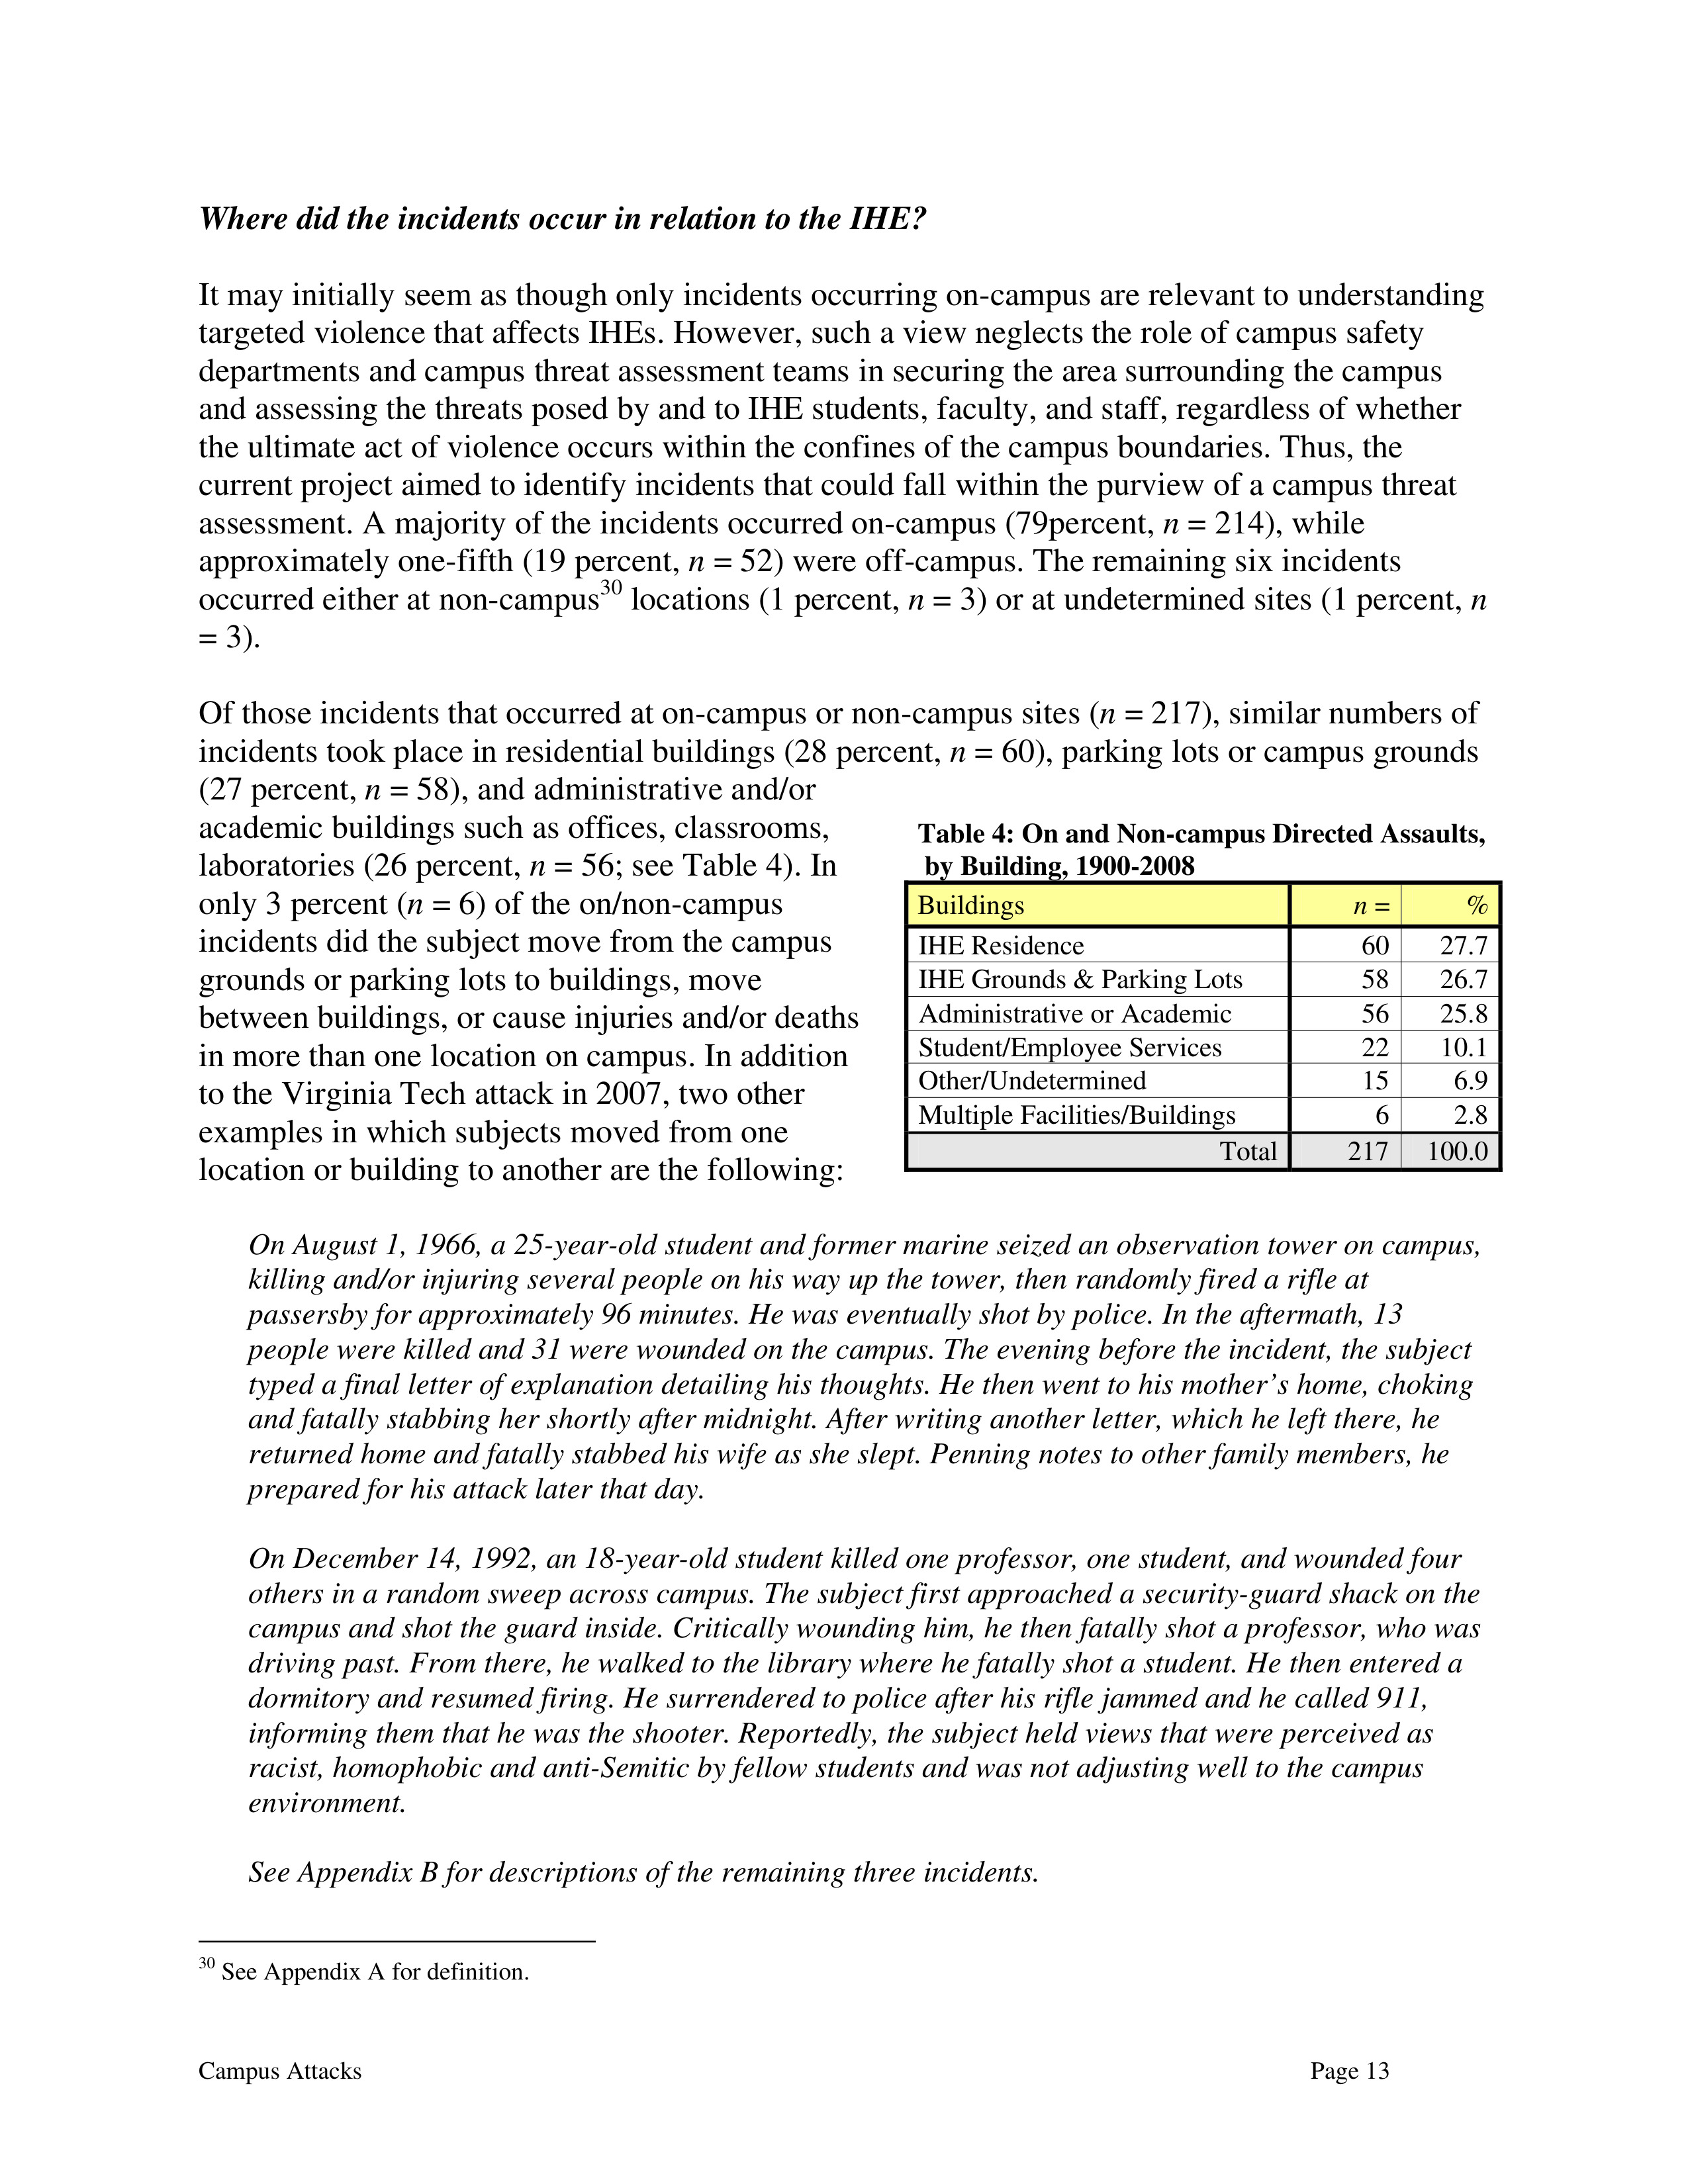table: (917, 885, 1489, 1168)
